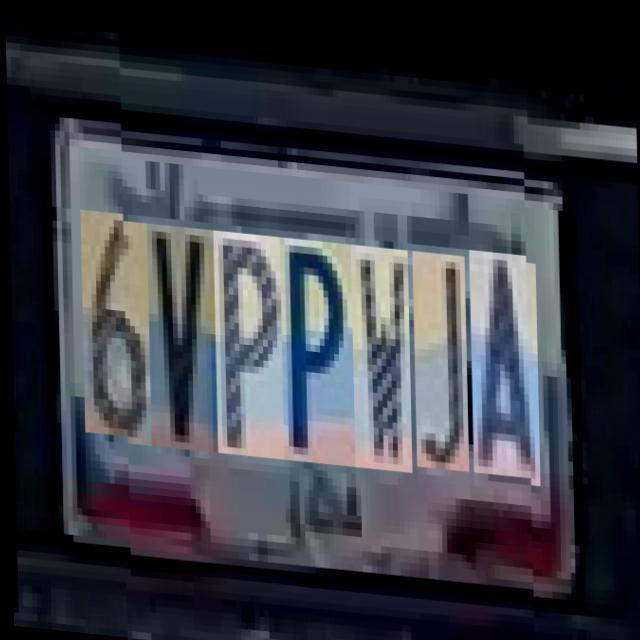6: (80, 215, 150, 443)
A: (468, 240, 538, 468)
J: (412, 242, 468, 462)
P: (278, 232, 354, 459), (212, 226, 282, 454)
V: (146, 221, 216, 448)
W: (350, 237, 410, 464)
